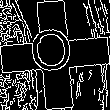O_S: (31, 28, 79, 82)
